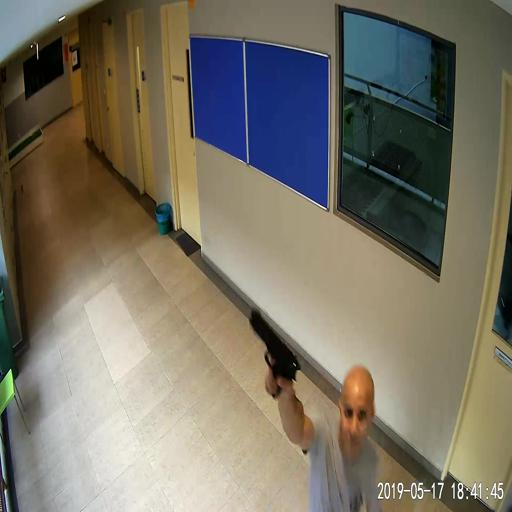pistol: (249, 310, 299, 398)
